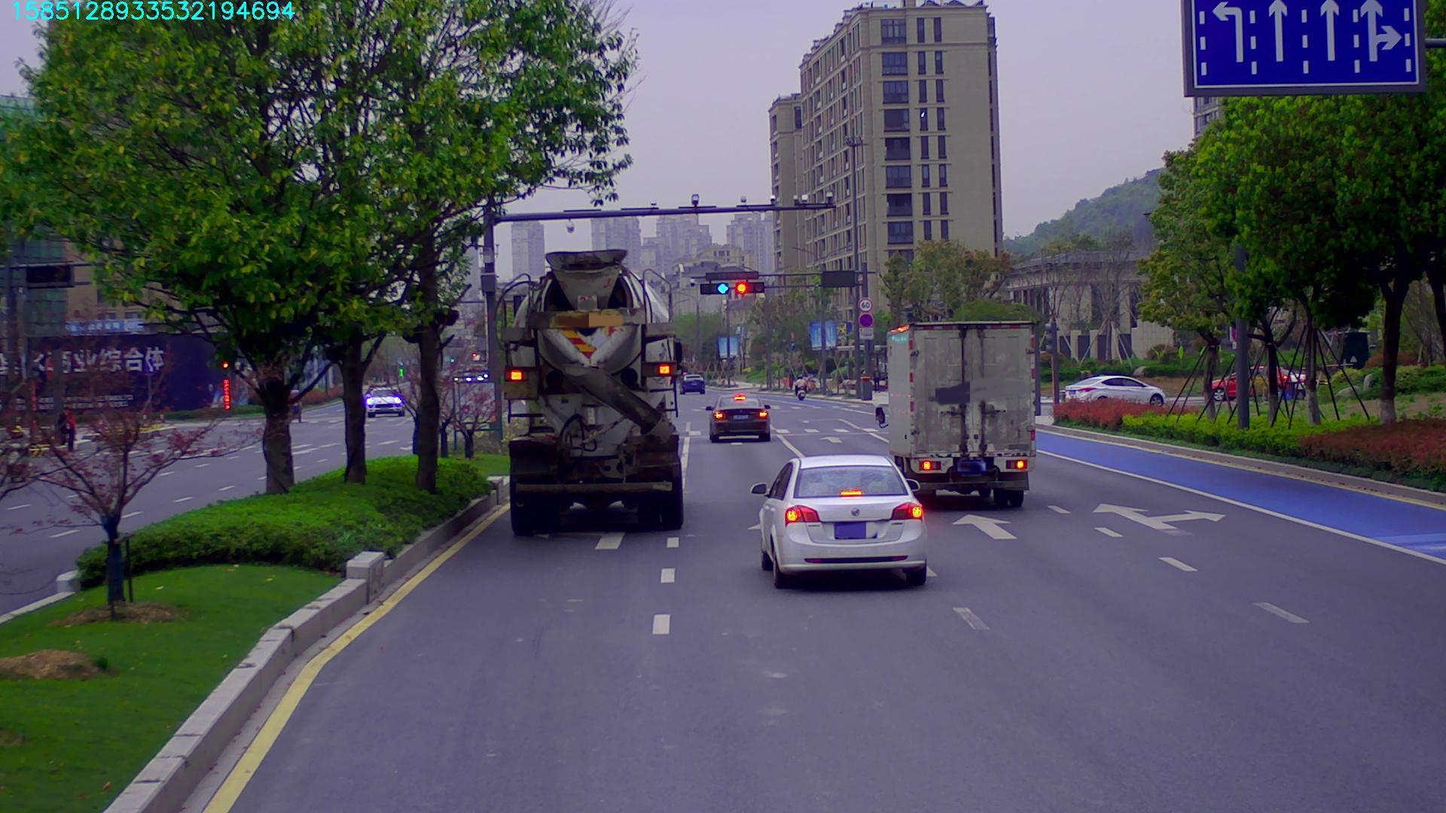green: (694, 280, 729, 297)
red: (734, 280, 764, 293)
